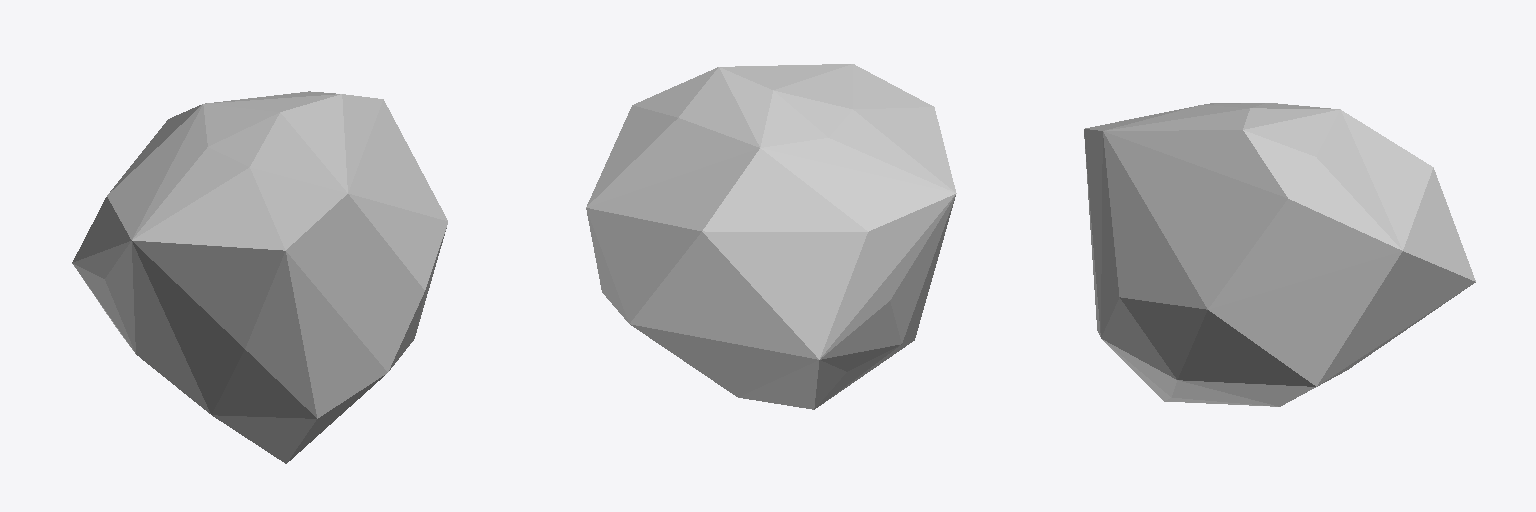
The model's file is asteroid_large_bp.obj.
3 renders of one model, left to right at view 1: azimuth 30°, elevation 25°; view 2: azimuth 150°, elevation 25°; view 3: azimuth 270°, elevation 25°, orthographic.
Visible parts, largest first — view 1: asteroid_large; view 2: asteroid_large; view 3: asteroid_large.
Part boxes in pixels (left/top/right/bottom): asteroid_large: left=72, top=91, right=447, bottom=463; asteroid_large: left=586, top=64, right=956, bottom=409; asteroid_large: left=1084, top=103, right=1475, bottom=406.
Bounding box in the file's own units: 2.12 × 2.06 × 2.3.